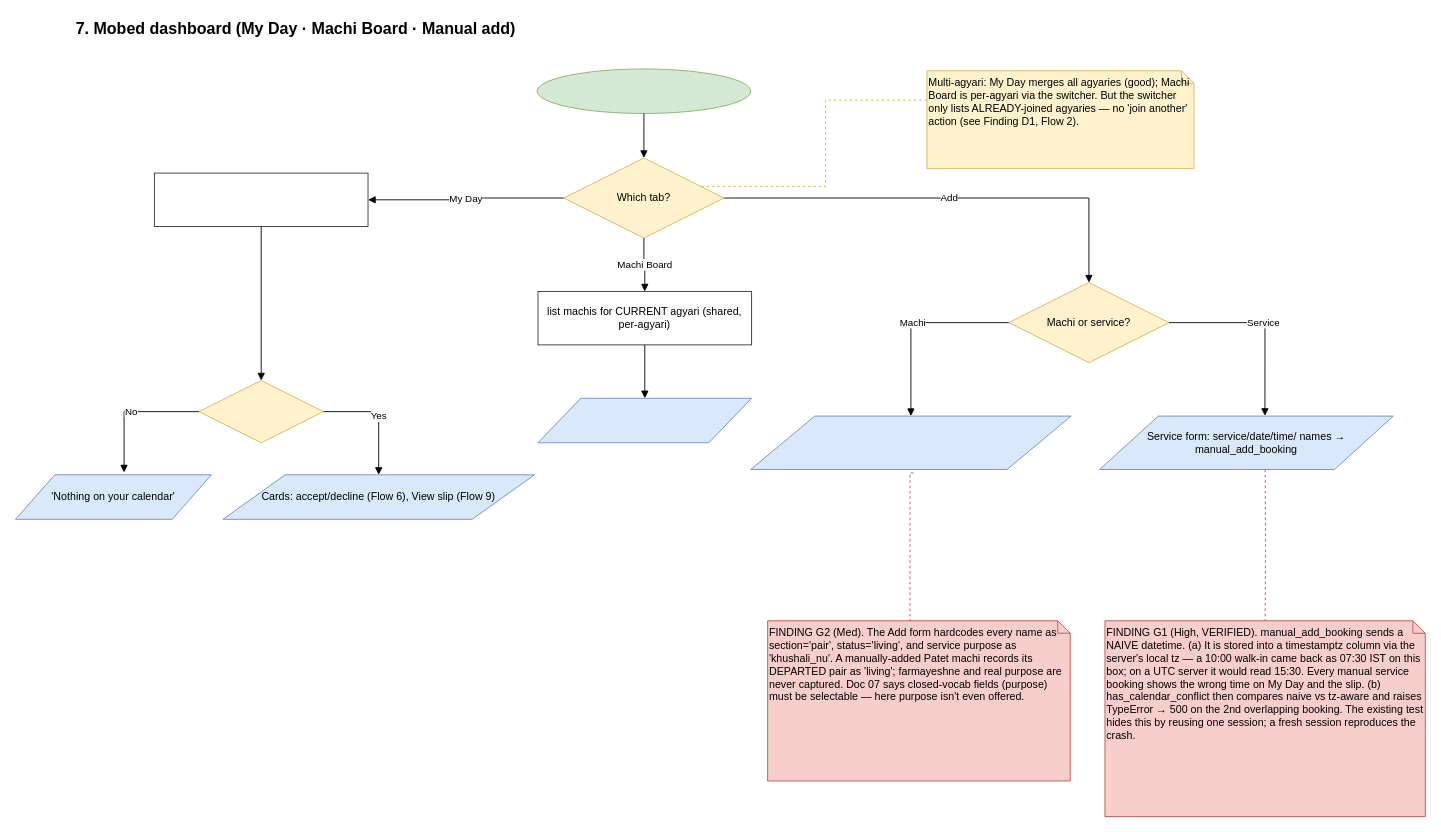
Image size: 1441x832. Some labels were removed from this diagram. The shapes that lost their labels are listed below. From the top down, each one's centre as x and y in pixels, then its label:
(x=643, y=90): Authenticated mobed shell
(x=261, y=199): list pending (assigned) + accepted bookings across ALL agyaries
(x=261, y=411): Any?
(x=644, y=420): Cards / empty → View slip (Flow 9)
(x=910, y=442): Machi form: roj/mah/geh/date/ purpose/names → manual_add_machi
